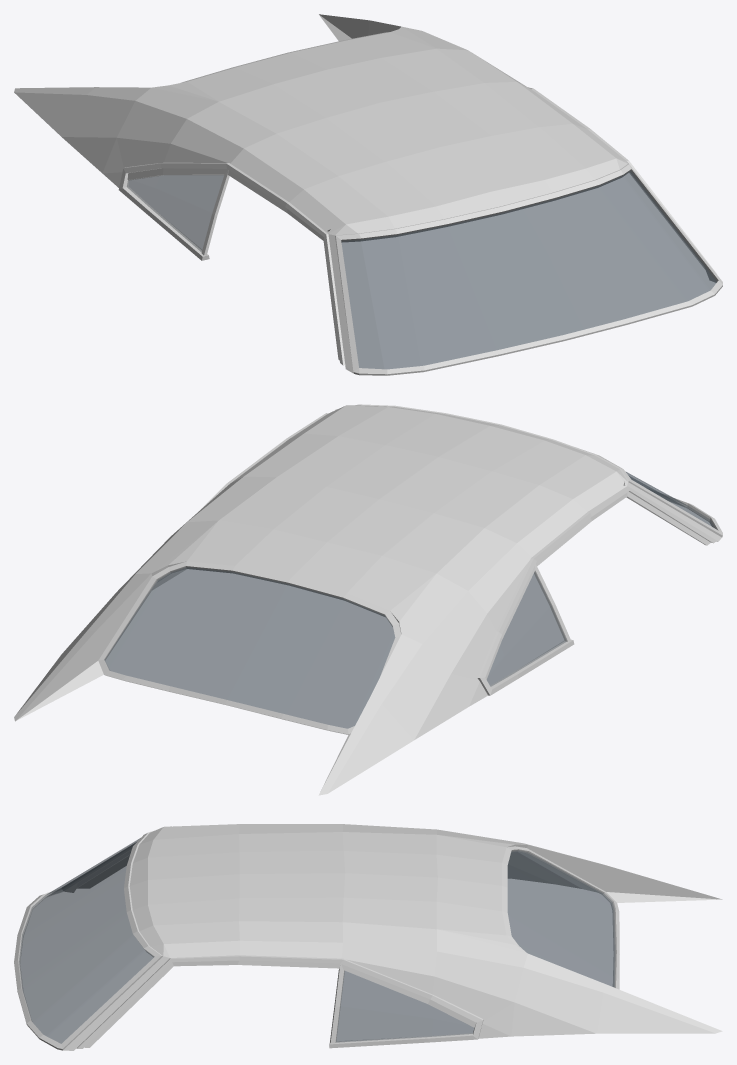
File: Muscle_01_Roof_01.glb
The picture shows the model from 3 angles, top to bottom: view 1: azimuth 30°, elevation 25°; view 2: azimuth 150°, elevation 25°; view 3: azimuth 270°, elevation 25°; orthographic projection. The views are drawn at different scales.
Parts seen in each view (by area): view 1: SM_Veh_Muscle_01_Roof_01, SM_Veh_Muscle_01_Roof_01_Glass; view 2: SM_Veh_Muscle_01_Roof_01, SM_Veh_Muscle_01_Roof_01_Glass; view 3: SM_Veh_Muscle_01_Roof_01, SM_Veh_Muscle_01_Roof_01_Glass.
Part boxes in pixels (left/top/right/bottom): SM_Veh_Muscle_01_Roof_01: left=14, top=14, right=722, bottom=375; SM_Veh_Muscle_01_Roof_01_Glass: left=127, top=170, right=717, bottom=369; SM_Veh_Muscle_01_Roof_01: left=14, top=404, right=722, bottom=795; SM_Veh_Muscle_01_Roof_01_Glass: left=104, top=472, right=715, bottom=728; SM_Veh_Muscle_01_Roof_01: left=14, top=824, right=722, bottom=1050; SM_Veh_Muscle_01_Roof_01_Glass: left=19, top=838, right=615, bottom=1043.
Bounding box in the file's own units: 1.79 × 0.502 × 3.3.
